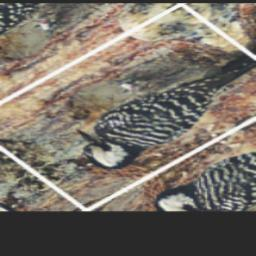Woodpecker: (27, 24, 256, 183)
